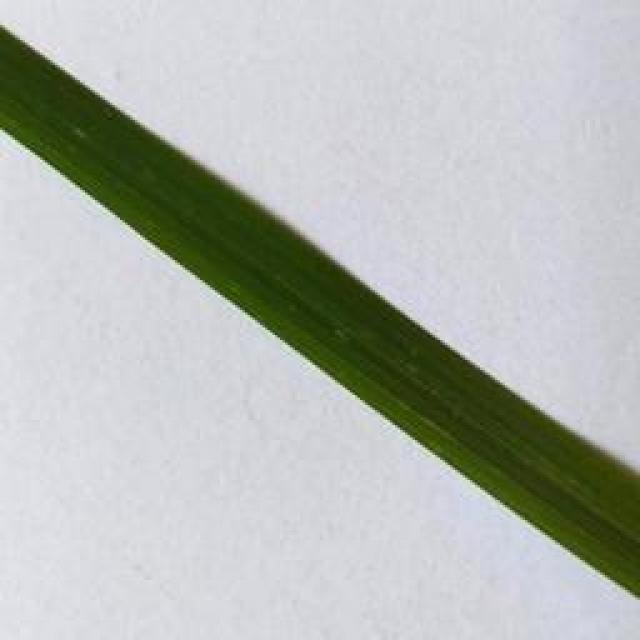Bacterial_Blight: (0, 24, 640, 600)
